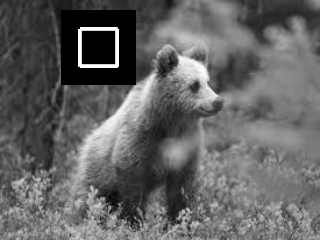square: (61, 10, 136, 85)
